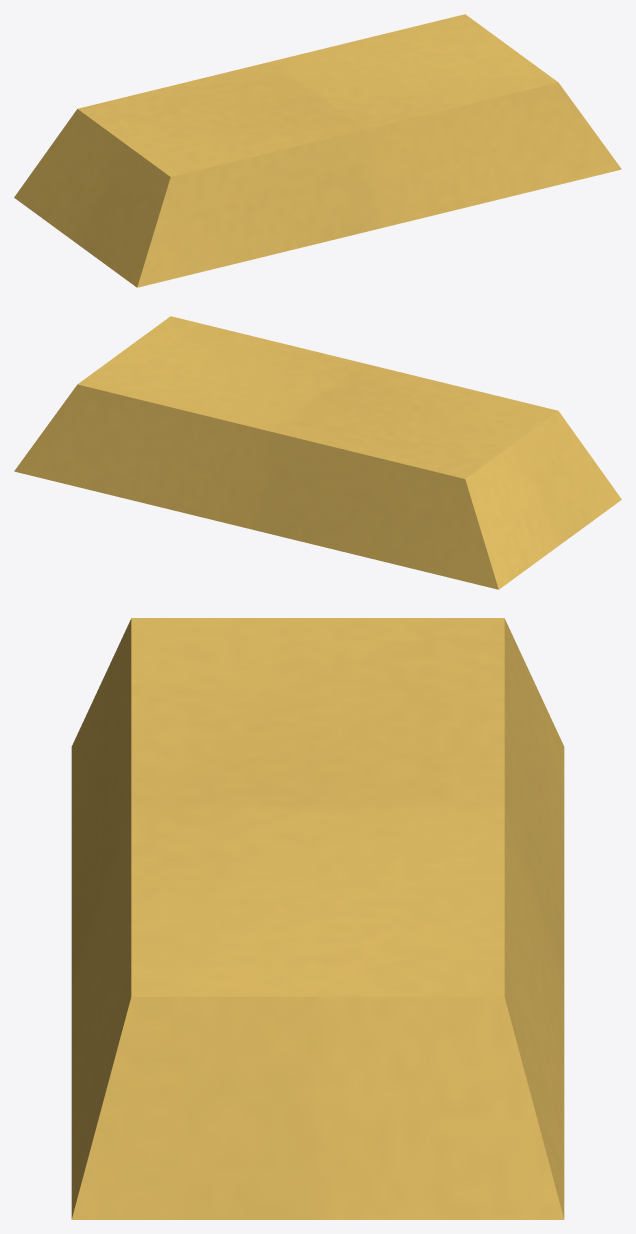
Rendered from ingot_gold.glb.
3 renders of one model, top to bottom at view 1: azimuth 30°, elevation 25°; view 2: azimuth 150°, elevation 25°; view 3: azimuth 270°, elevation 25°, orthographic. The views are drawn at different scales.
Visible parts, largest first — view 1: cast gold ingot; view 2: cast gold ingot; view 3: cast gold ingot.
Boxes of the visible parts, left/top/right/bottom form: cast gold ingot: left=14, top=14, right=621, bottom=287; cast gold ingot: left=14, top=316, right=621, bottom=589; cast gold ingot: left=71, top=618, right=564, bottom=1219.
Bounding box in the file's own units: 0.15 × 0.026 × 0.066.
Materials: 1 (1 with a texture image).
